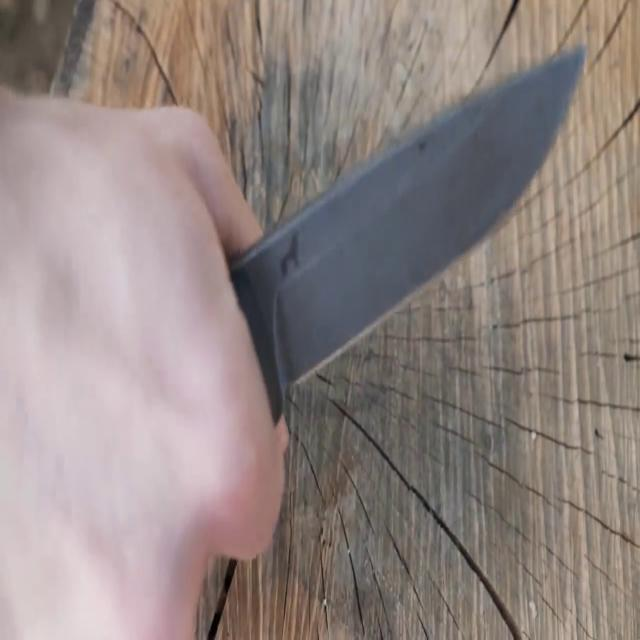Knife: (77, 16, 601, 640)
